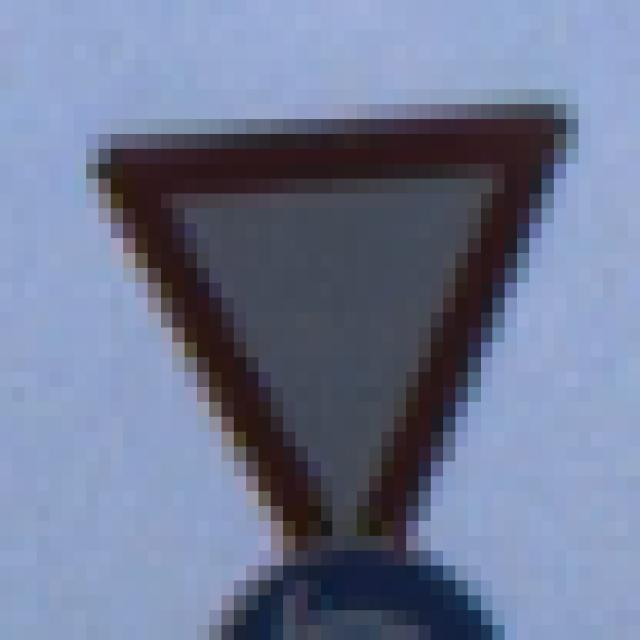Give Way: (75, 76, 579, 567)
